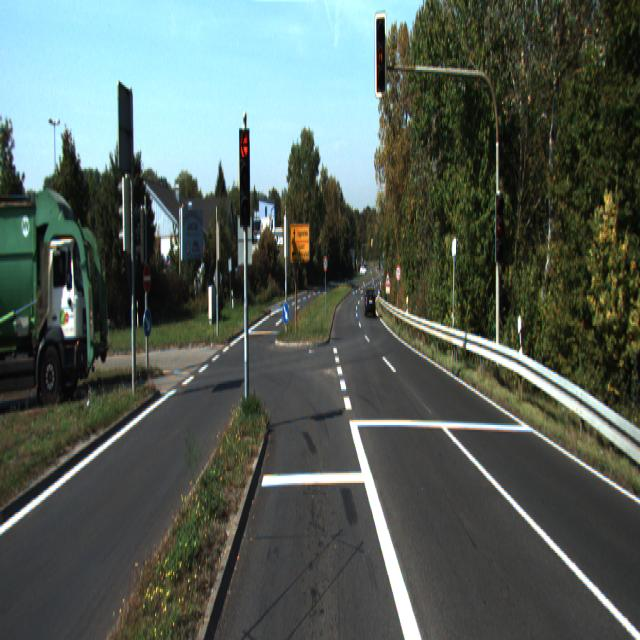Car: (364, 287, 376, 317)
DontCare: (360, 261, 366, 276)
Truck: (0, 184, 112, 404)
